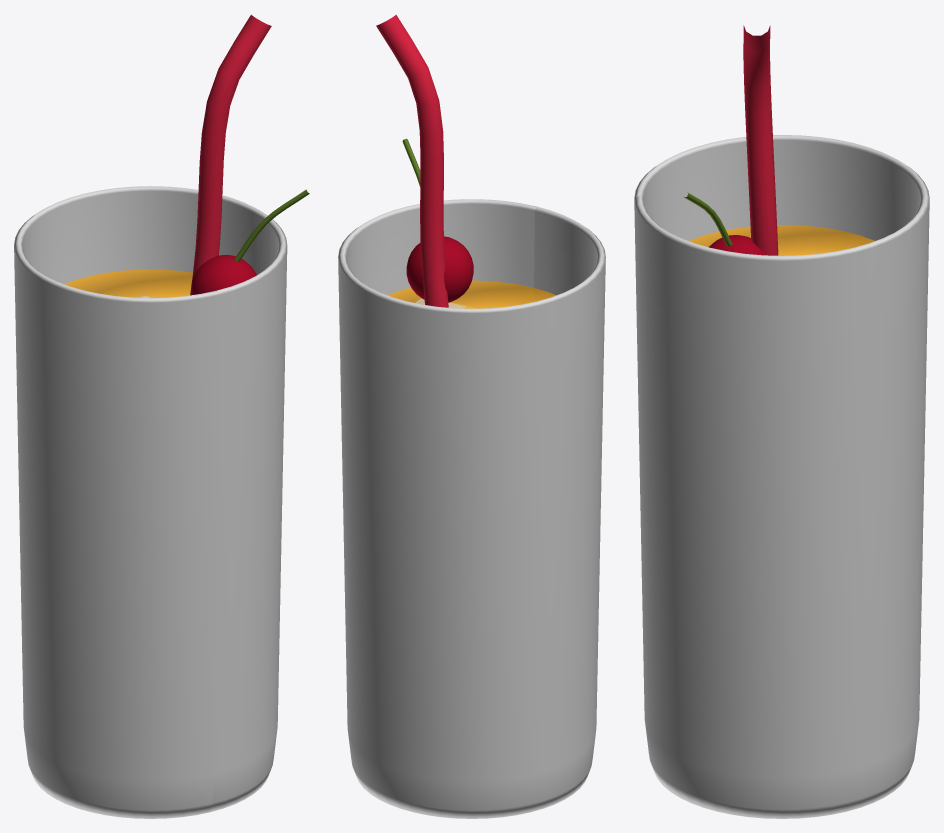
The model's file is sunrise.glb.
3 views of the same model, side by side, from view 1: azimuth 30°, elevation 25°; view 2: azimuth 150°, elevation 25°; view 3: azimuth 270°, elevation 25° (orthographic). The views are drawn at different scales.
Visible parts, largest first — view 1: glass, straw, liquid, garnish (×2); view 2: glass, straw, liquid, garnish; view 3: glass, straw, liquid, garnish.
Part boxes in pixels (<box>): glass: <box>14,186,287,818</box>; straw: <box>190,14,271,295</box>; liquid: <box>64,269,192,297</box>; garnish (×2): <box>191,189,309,294</box>; glass: <box>338,199,605,818</box>; straw: <box>376,14,448,307</box>; liquid: <box>387,280,555,308</box>; garnish: <box>406,236,473,302</box>; glass: <box>634,135,929,818</box>; straw: <box>743,25,778,255</box>; liquid: <box>689,225,874,255</box>; garnish: <box>708,235,765,255</box>.
Bounding box in the file's own units: 0.071 × 0.2117 × 0.071.
